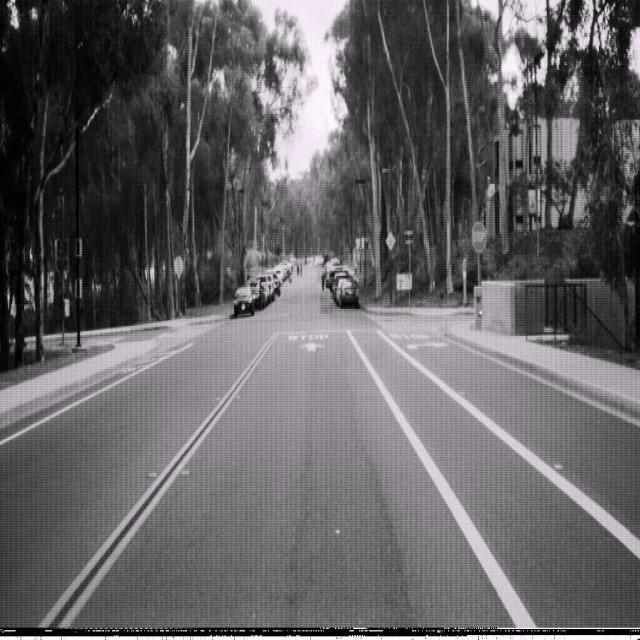stop: (471, 220, 486, 252)
